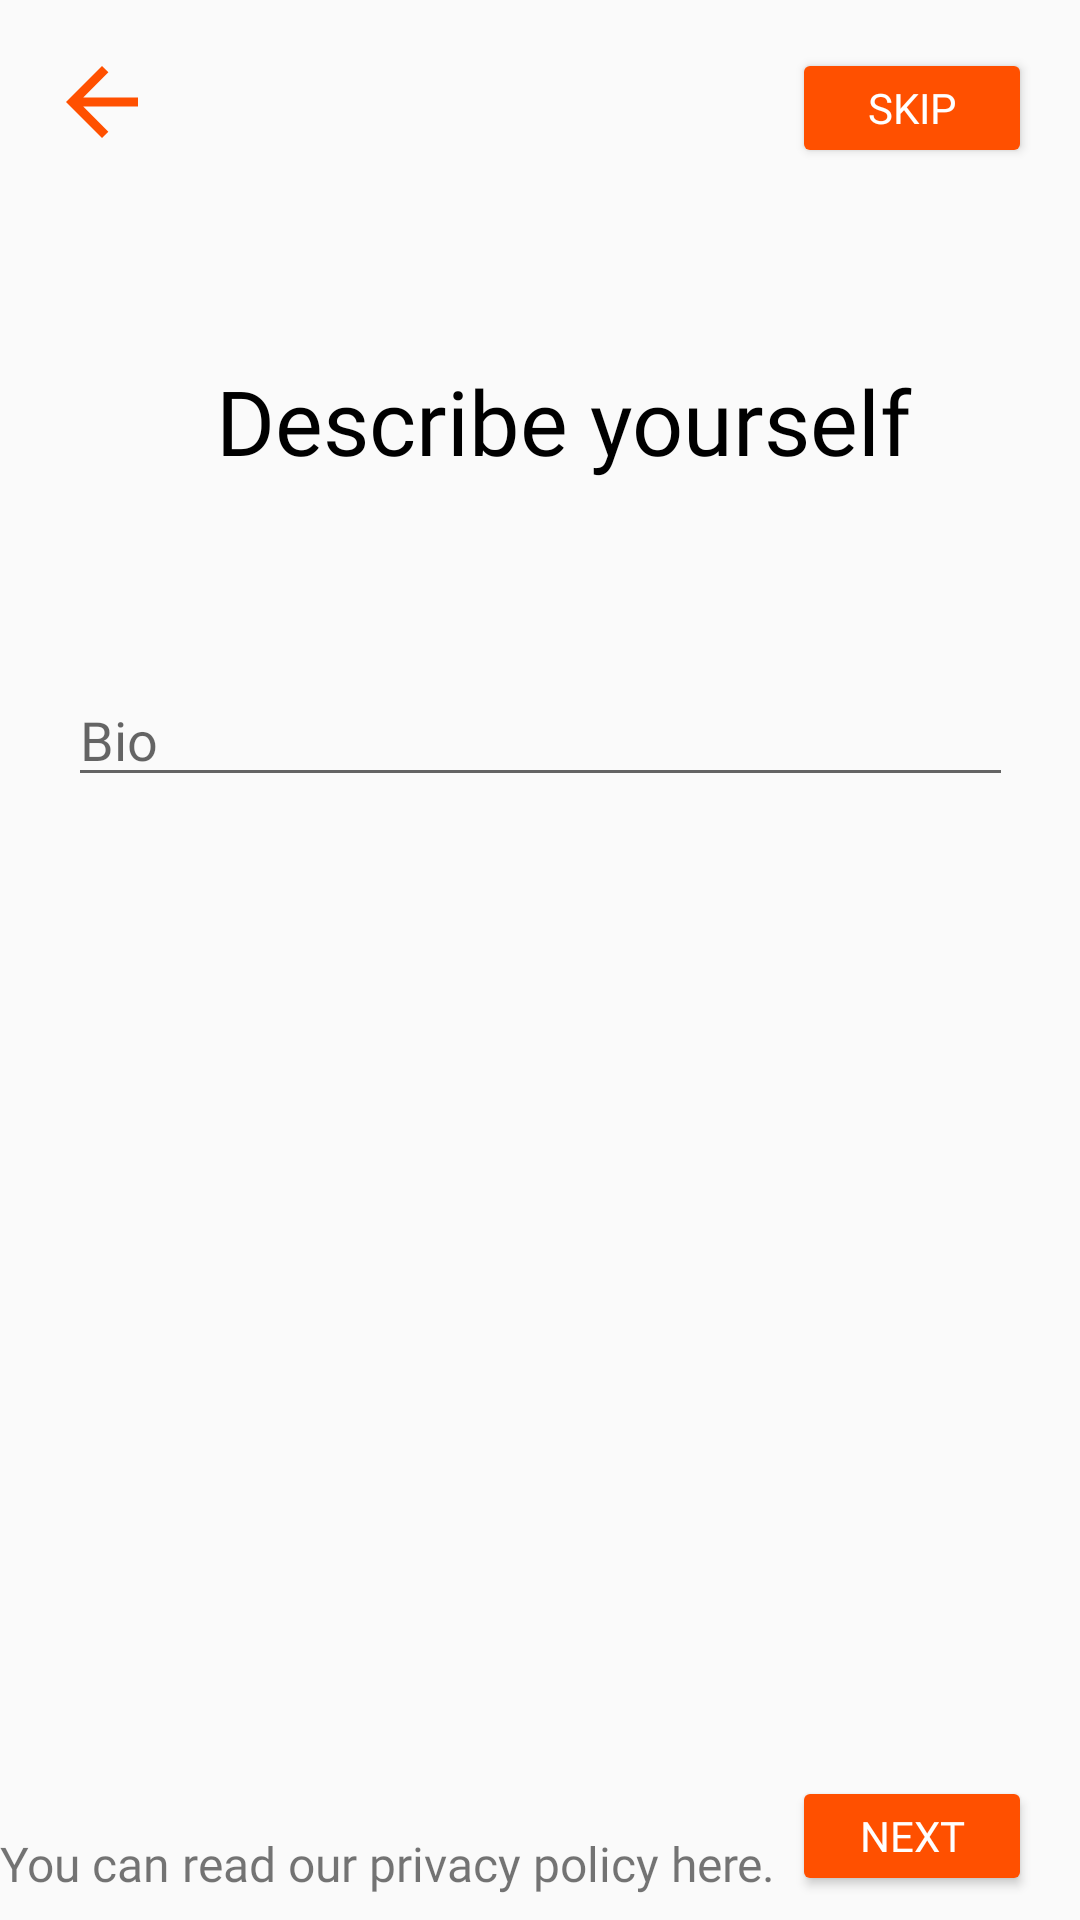

Named icons in this screenshot (1080 x 1920) and their bounding boxes, BBox(x1, y1, x2, y2):
arrow back: BBox(66, 66, 138, 138)
